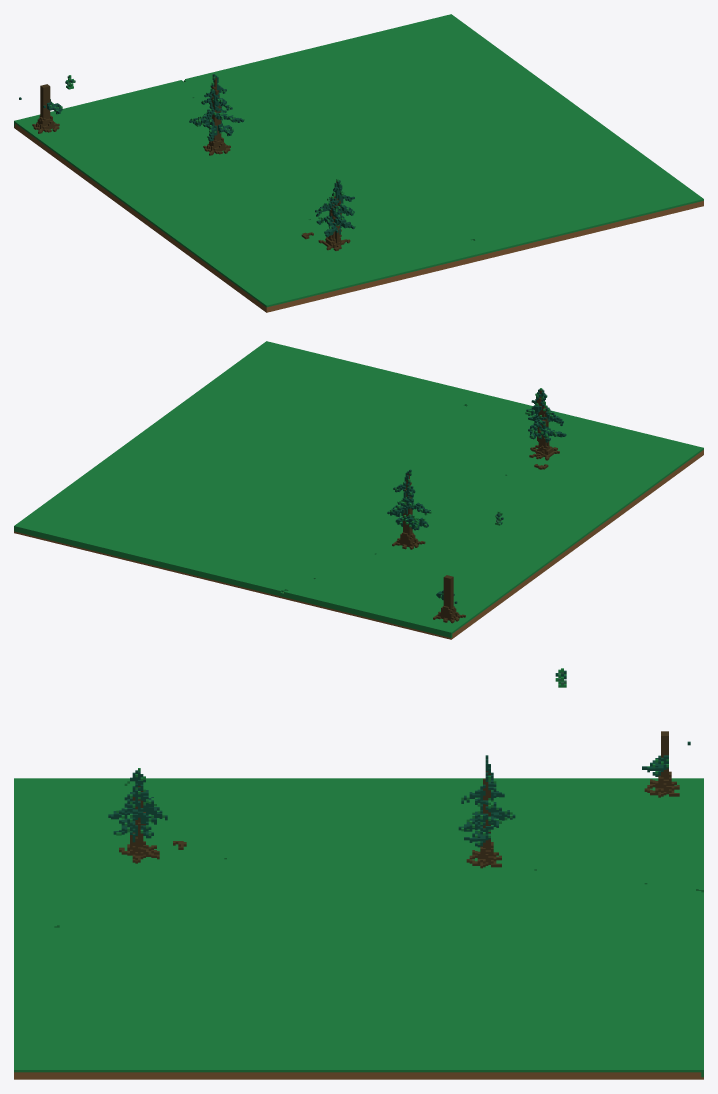
The model's file is laboratorio-3.obj.
3 views of the same model, one above another, from view 1: azimuth 30°, elevation 25°; view 2: azimuth 150°, elevation 25°; view 3: azimuth 270°, elevation 25° (orthographic). The views are drawn at different scales.
Bounding box in the file's own units: 25.6 × 5 × 25.6.
1 material, 1 textured.
